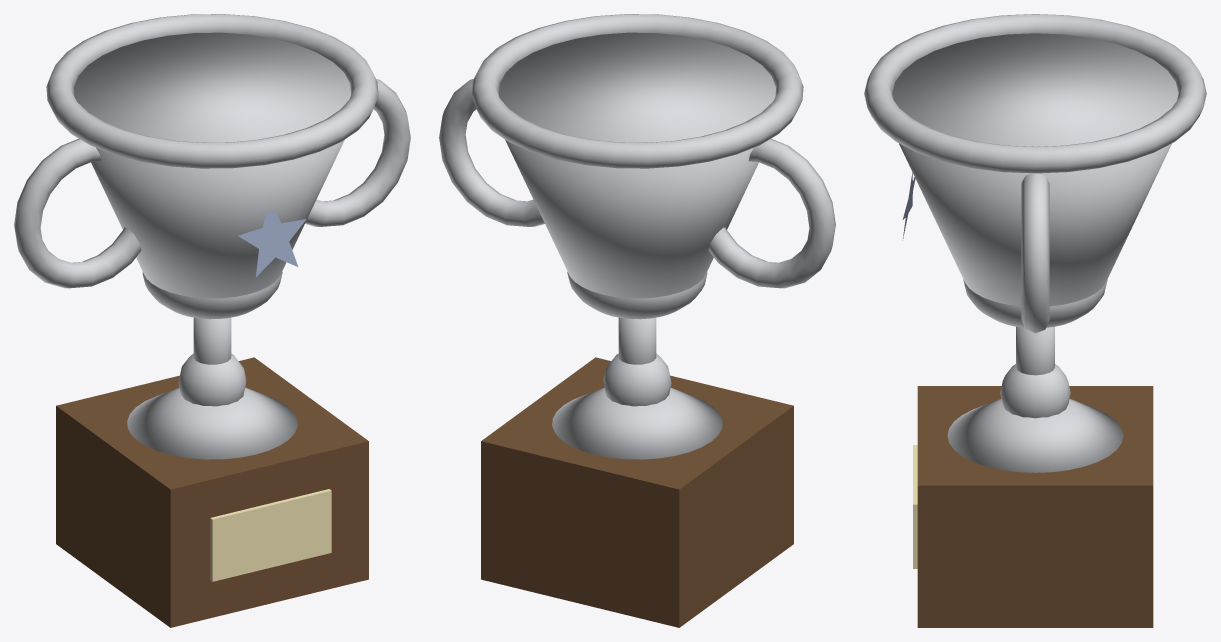
Rendered from cup_silver.glb.
3 renders of one model, left to right at view 1: azimuth 30°, elevation 25°; view 2: azimuth 150°, elevation 25°; view 3: azimuth 270°, elevation 25°, orthographic. The views are drawn at different scales.
Parts seen in each view (by area): view 1: Cube, Cone, Torus.003, Cone.001, Cube.001, Torus.004, Torus.005, Sphere.001, Sphere, Star, Cylinder; view 2: Cube, Cone, Torus.003, Cone.001, Torus.004, Torus.005, Sphere.001, Sphere, Cylinder; view 3: Cone, Cube, Torus.003, Cone.001, Torus.005, Sphere.001, Sphere, Cylinder, Cube.001.
Boxes of the visible parts, left/top/right/bottom form: Cube: left=56, top=357, right=368, bottom=627; Cone: left=74, top=32, right=350, bottom=298; Torus.003: left=46, top=14, right=378, bottom=168; Cone.001: left=127, top=387, right=297, bottom=459; Cube.001: left=210, top=489, right=331, bottom=581; Torus.004: left=14, top=138, right=141, bottom=288; Torus.005: left=305, top=79, right=410, bottom=226; Sphere.001: left=178, top=353, right=246, bottom=406; Sphere: left=142, top=272, right=282, bottom=319; Star: left=238, top=210, right=306, bottom=277; Cylinder: left=193, top=317, right=231, bottom=364; Cube: left=481, top=357, right=793, bottom=627; Cone: left=499, top=32, right=775, bottom=298; Torus.003: left=471, top=14, right=803, bottom=168; Cone.001: left=552, top=387, right=722, bottom=459; Torus.004: left=708, top=138, right=835, bottom=288; Torus.005: left=439, top=79, right=544, bottom=226; Sphere.001: left=603, top=353, right=671, bottom=406; Sphere: left=567, top=272, right=707, bottom=319; Cylinder: left=618, top=317, right=656, bottom=364; Cone: left=892, top=33, right=1178, bottom=306; Cube: left=917, top=386, right=1153, bottom=627; Torus.003: left=864, top=14, right=1206, bottom=173; Cone.001: left=947, top=399, right=1123, bottom=472; Torus.005: left=1021, top=173, right=1049, bottom=333; Sphere.001: left=1000, top=364, right=1070, bottom=418; Sphere: left=963, top=279, right=1107, bottom=327; Cylinder: left=1016, top=326, right=1054, bottom=375; Cube.001: left=913, top=445, right=917, bottom=568.
Size of the model in its own units: 0.596 by 0.698 by 0.436.
